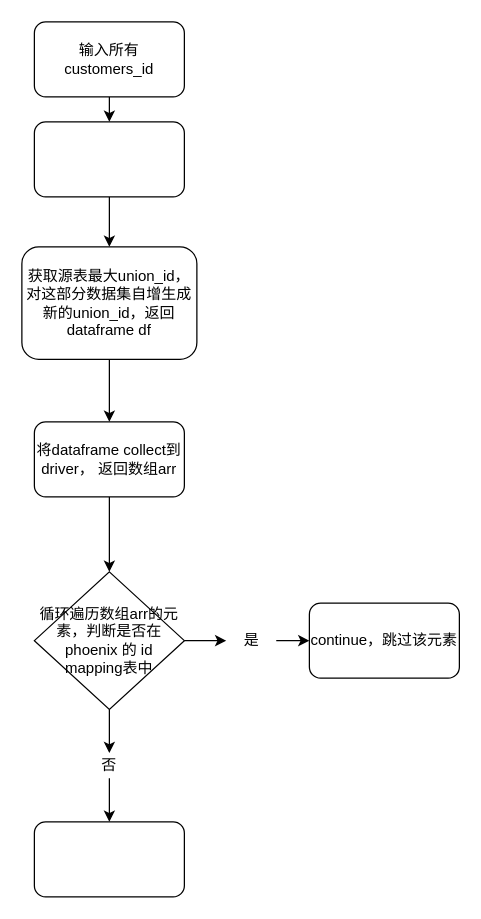
This 481x919 diagram has some shape labels left out. Each missing label, with the box of its shape:
关联从phoenix拉下到集群的id mapping，获得关联不上的customers_id数据集: (33, 121, 184, 197)
回写到phoenix中的id mapping表: (33, 821, 184, 897)
